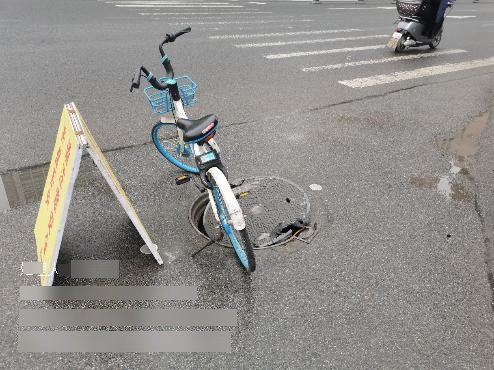uncovered: (188, 177, 318, 249)
